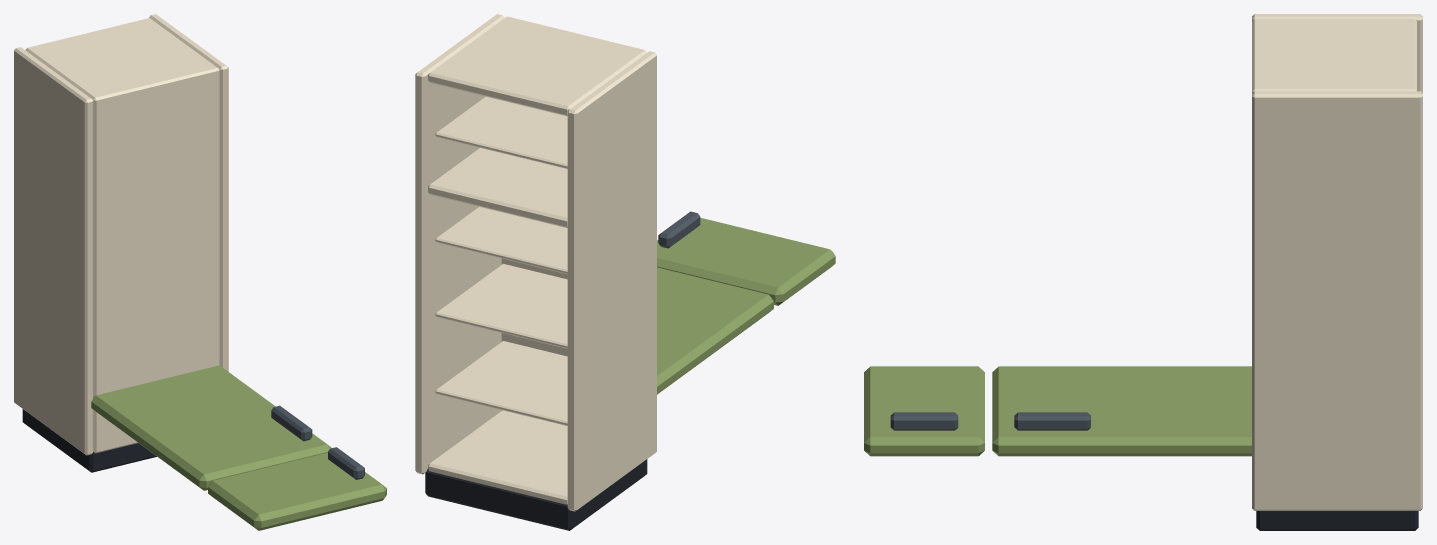
File: Fridge.fbx
The picture shows the model from 3 angles, left to right: view 1: azimuth 30°, elevation 25°; view 2: azimuth 150°, elevation 25°; view 3: azimuth 270°, elevation 25°; orthographic projection. The views are drawn at different scales.
Parts seen in each view (by area): view 1: Carcass, RefrigeratorDoor, FreezerDoor; view 2: Carcass, FreezerDoor, RefrigeratorDoor; view 3: Carcass, RefrigeratorDoor, FreezerDoor.
Boxes of the visible parts, x1=… form: Carcass: x1=14, y1=14, x2=228, y2=472; RefrigeratorDoor: x1=91, y1=365, x2=331, y2=490; FreezerDoor: x1=208, y1=447, x2=386, y2=530; Carcass: x1=415, y1=14, x2=656, y2=530; FreezerDoor: x1=657, y1=211, x2=835, y2=305; RefrigeratorDoor: x1=657, y1=267, x2=773, y2=394; Carcass: x1=1252, y1=14, x2=1422, y2=530; RefrigeratorDoor: x1=992, y1=366, x2=1251, y2=456; FreezerDoor: x1=864, y1=366, x2=984, y2=456.
Size of the model in its own units: 0.66 by 1.65 by 1.9.
